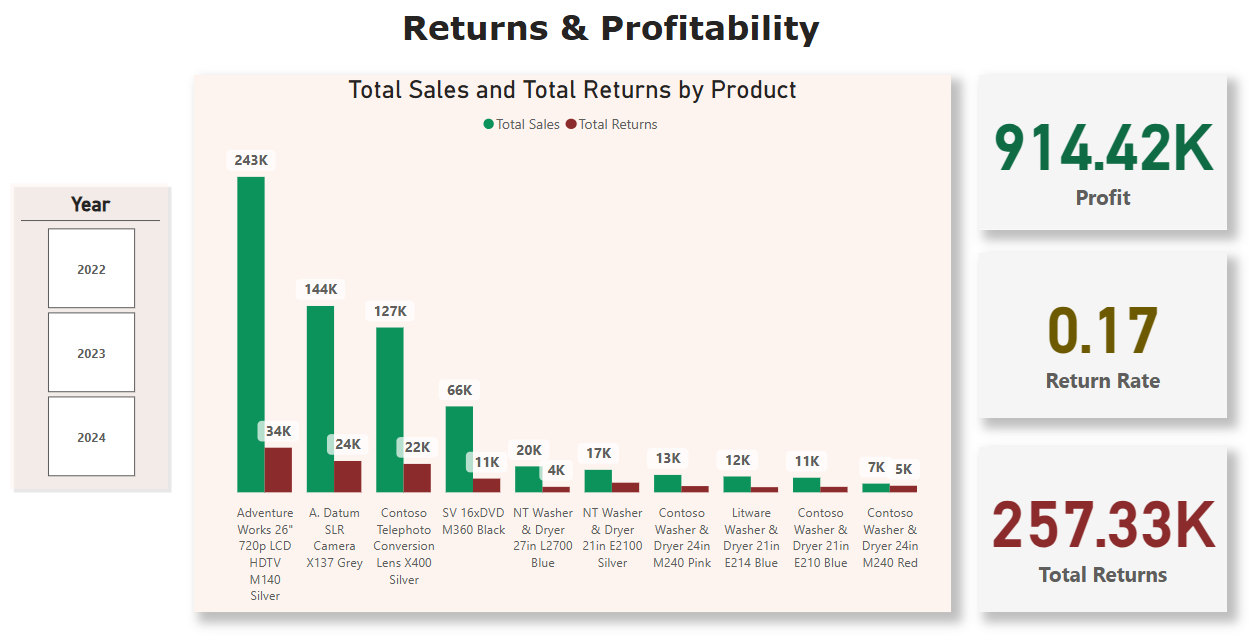

What the dashboard file says about the page in this screenshot:
{"tool":"powerbi","page":{"name":"Returns & Profitability","canvas":[1280,720],"ordinal":3},"visuals":[{"type":"lineClusteredColumnComboChart","title":"Total Sales and Total Returns by Product","fields":{"Category":["products_table.ProductName"],"Y":["sales_table.Total Sales","returns_table.Total Returns"],"Y2":["returns_table.Return Rate"]},"box":[238.1,86.7,729.6,517.6],"z":0},{"type":"card","fields":{"Values":["returns_table.Return Rate"]},"box":[994.8,258.4,239.1,159.4],"z":1000},{"type":"card","fields":{"Values":["returns_table.Total Returns"]},"box":[994.8,445.7,239.1,159.4],"z":2000},{"type":"textbox","box":[0,15.9,1280,55.8],"z":3000},{"type":"card","fields":{"Values":["expenses_table.Profit"]},"box":[994.3,86.7,239.1,149.4],"z":4000},{"type":"shape","box":[55.9,186,161.9,304.6],"z":4500},{"type":"slicer","title":"Year","fields":{"Values":["date_table.Year"]},"box":[71.3,199.5,134,280.5],"z":5000}]}

Visuals, with their boxes on the page's 1280x720 design canvas (x1, y1, x2, y2). These are canvas units, not pixel positions in the 1249x643 screenshot, which may show the page scaled, cropped or inside an application window:
"Total Sales and Total Returns by Product" lineClusteredColumnComboChart: box=[238, 87, 968, 604]
card - returns_table.Return Rate: box=[995, 258, 1234, 418]
card - returns_table.Total Returns: box=[995, 446, 1234, 605]
textbox: box=[0, 16, 1280, 72]
card - expenses_table.Profit: box=[994, 87, 1233, 236]
shape: box=[56, 186, 218, 491]
"Year" slicer: box=[71, 200, 205, 480]
